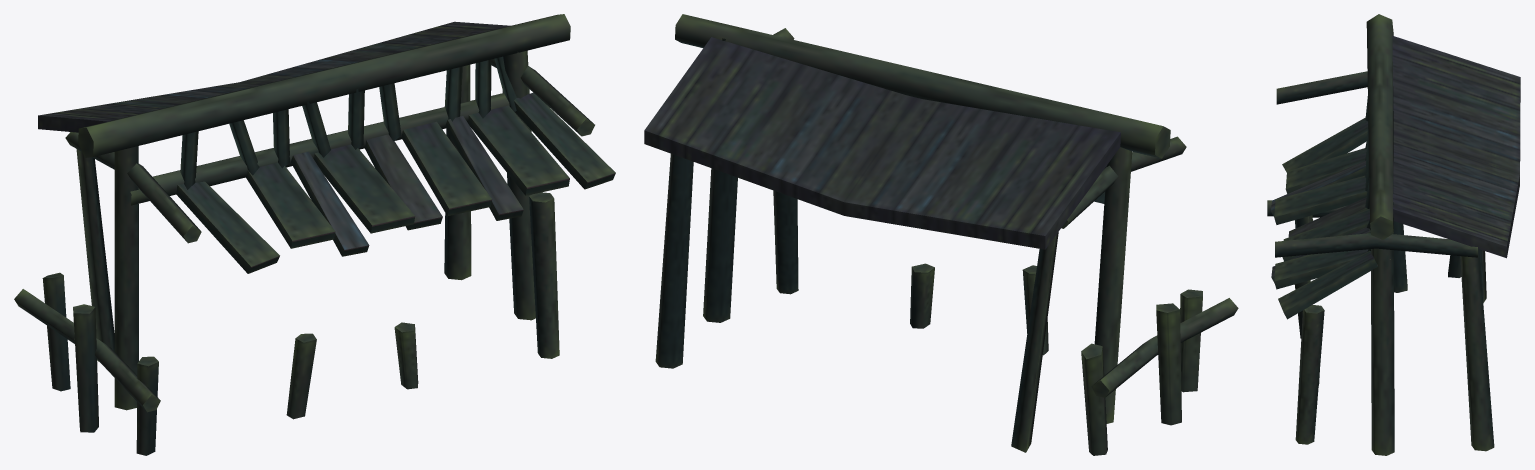
The model's file is pomajiu1.FBX.
3 views of the same model, side by side, from view 1: azimuth 30°, elevation 25°; view 2: azimuth 150°, elevation 25°; view 3: azimuth 270°, elevation 25° (orthographic). The views are drawn at different scales.
Visible parts, largest first — view 1: pomajiu1; view 2: pomajiu1; view 3: pomajiu1.
Boxes of the visible parts, bbox=[...] form: pomajiu1: bbox=[14, 14, 615, 455]; pomajiu1: bbox=[644, 14, 1238, 455]; pomajiu1: bbox=[1267, 14, 1520, 455].
Bounding box in the file's own units: 753 × 393 × 434.
